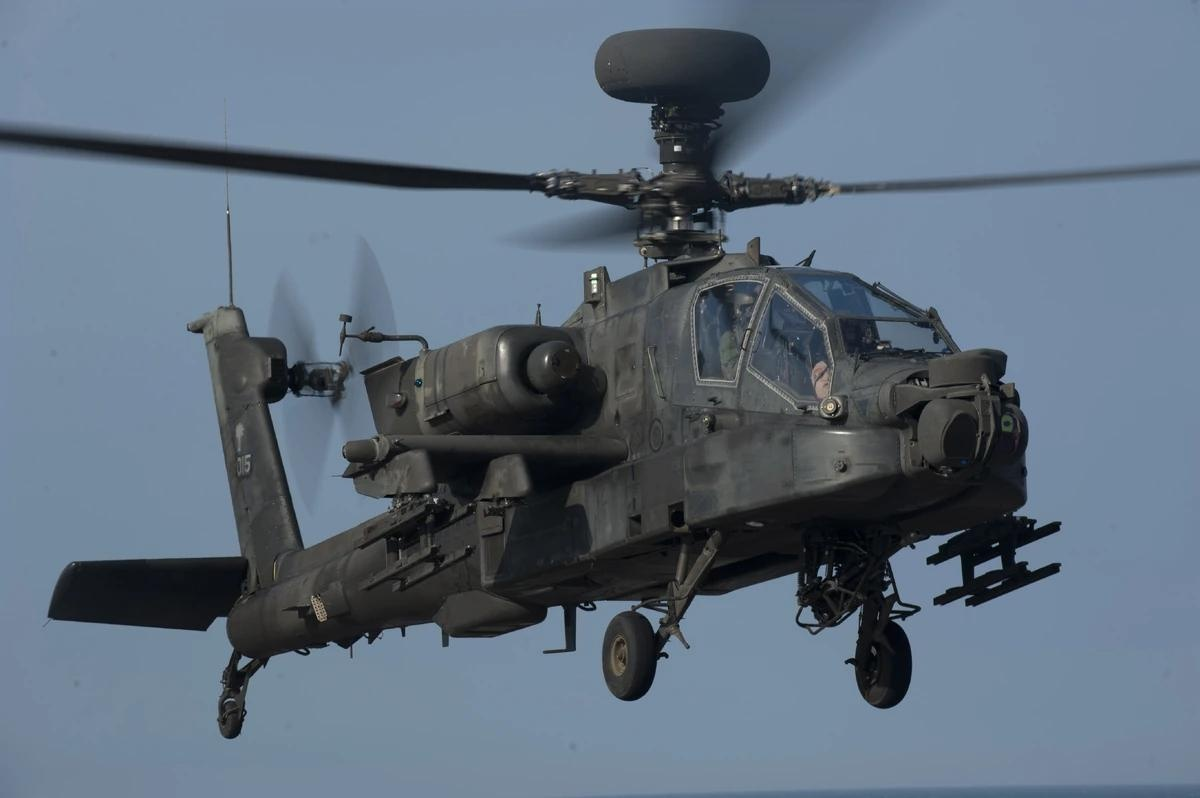aircraft: (49, 118, 1077, 731)
